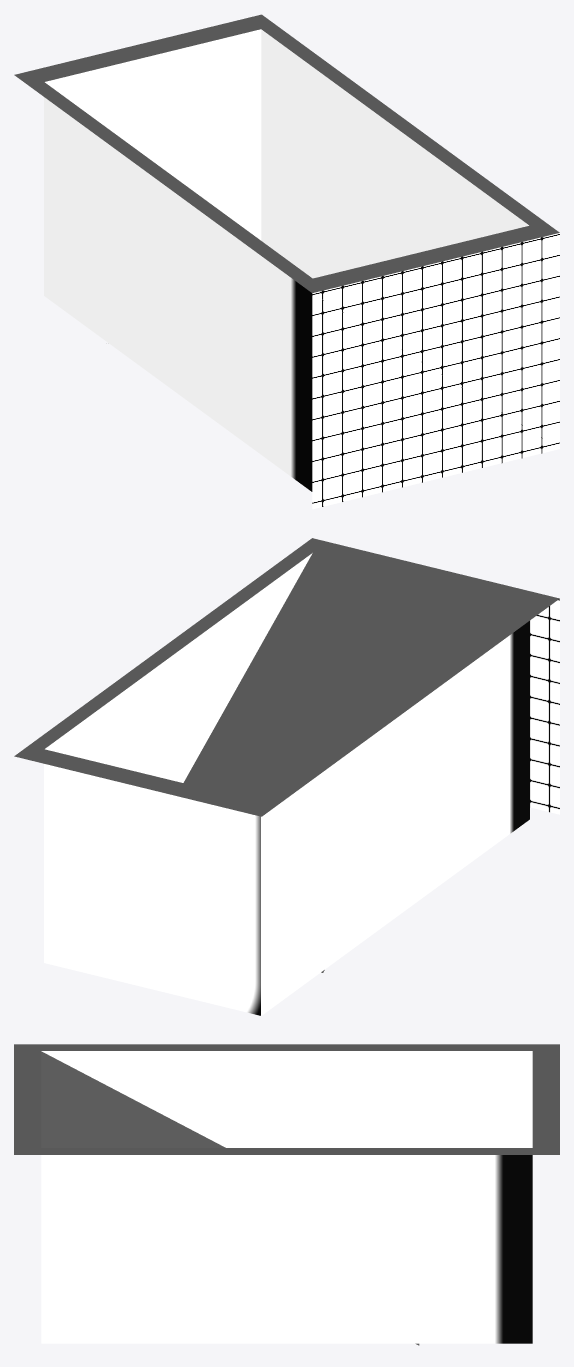
The model's file is dice_box_spaceship.glb.
3 renders of one model, top to bottom at view 1: azimuth 30°, elevation 25°; view 2: azimuth 150°, elevation 25°; view 3: azimuth 270°, elevation 25°, orthographic. The views are drawn at different scales.
Visible parts, largest first — view 1: DiceBox-col; view 2: DiceBox-col, BoxSlope-col; view 3: DiceBox-col, BoxSlope-col.
Part boxes in pixels (box(x1,y1,x2,y2)): DiceBox-col: box(14, 14, 559, 509); DiceBox-col: box(14, 538, 559, 1015); BoxSlope-col: box(183, 553, 528, 972); DiceBox-col: box(14, 1044, 559, 1343); BoxSlope-col: box(41, 1051, 419, 1345).
Bounding box in the file's own units: 4.8 × 4 × 10.
Materials: 2 (2 with a texture image).
